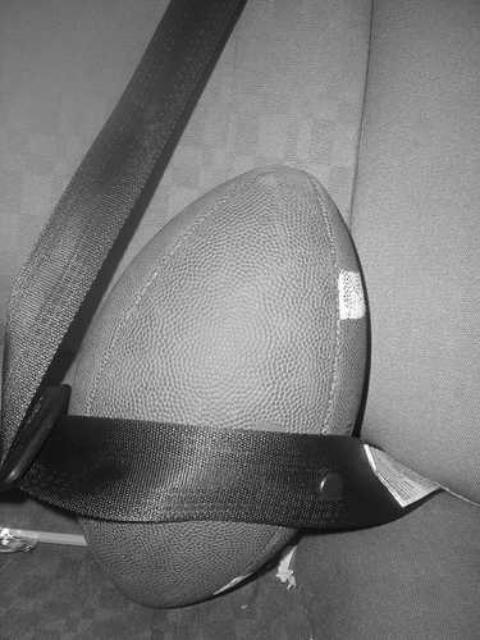Seatbelt: (0, 0, 446, 540)
